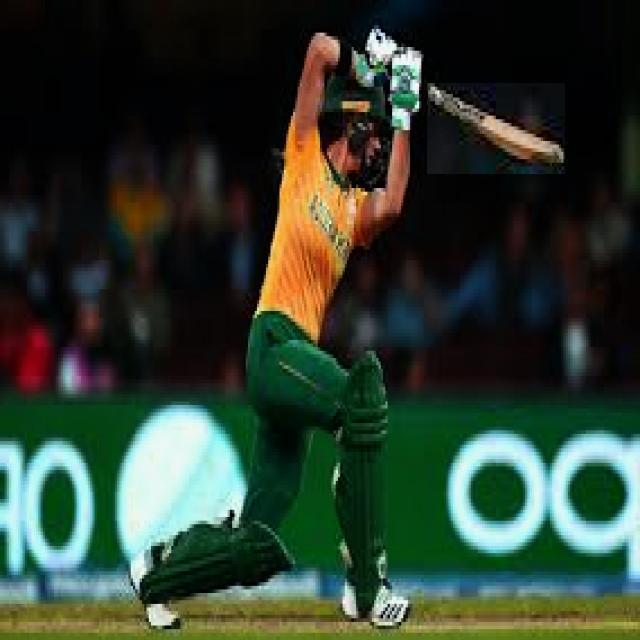bat: (421, 91, 581, 178)
toe: (536, 138, 569, 168)
